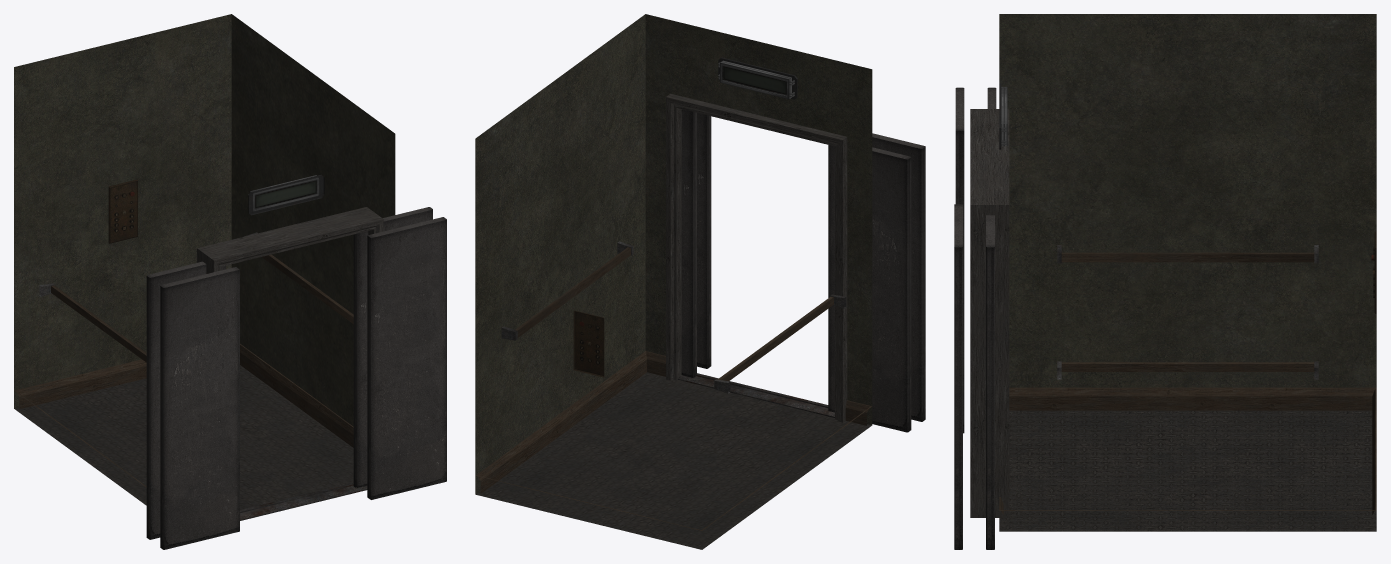
The model's file is elevator_1.obj.
3 renders of one model, left to right at view 1: azimuth 30°, elevation 25°; view 2: azimuth 150°, elevation 25°; view 3: azimuth 270°, elevation 25°, orthographic. The views are drawn at different scales.
Visible parts, largest first — view 1: elevator_1, elevator_door_1_a, elevator_door_1_b, elevator_door_2_b, elevator_door_2_a; view 2: elevator_1, elevator_door_2_b, elevator_door_1_b, elevator_door_2_a, elevator_door_1_a; view 3: elevator_1, elevator_door_1_a, elevator_door_2_a, elevator_door_1_b.
Part boxes in pixels (left/top/right/bottom): elevator_1: left=14, top=14, right=395, bottom=520; elevator_door_1_a: left=367, top=217, right=446, bottom=499; elevator_door_1_b: left=160, top=267, right=239, bottom=549; elevator_door_2_b: left=146, top=261, right=225, bottom=539; elevator_door_2_a: left=353, top=207, right=432, bottom=487; elevator_1: left=475, top=14, right=872, bottom=549; elevator_door_2_b: left=828, top=145, right=911, bottom=432; elevator_door_1_b: left=872, top=133, right=925, bottom=421; elevator_door_2_a: left=681, top=109, right=696, bottom=377; elevator_door_1_a: left=697, top=113, right=711, bottom=368; elevator_1: left=970, top=14, right=1376, bottom=531; elevator_door_1_a: left=954, top=204, right=962, bottom=549; elevator_door_2_a: left=986, top=215, right=994, bottom=549; elevator_door_1_b: left=955, top=87, right=964, bottom=433.
Bounding box in the file's own units: 2.6 × 3 × 2.91.
